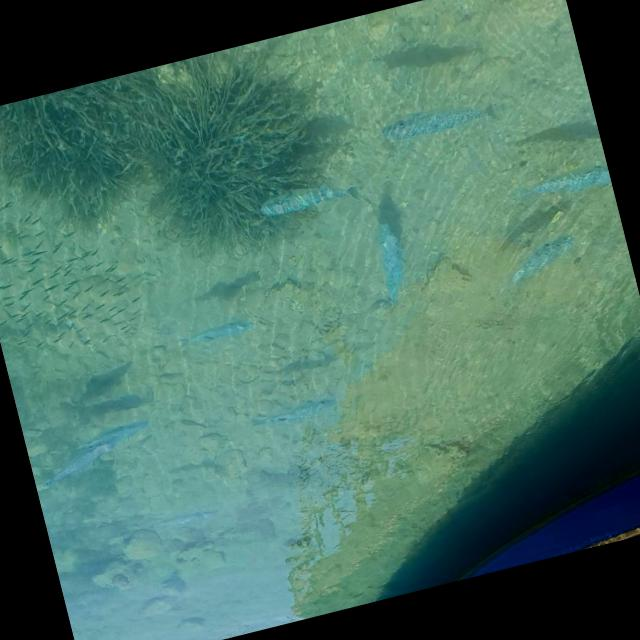Balon Baligi: (379, 92, 499, 147), (488, 234, 584, 298), (257, 172, 364, 223), (514, 164, 612, 206), (40, 438, 122, 486), (371, 221, 414, 305), (250, 395, 336, 431), (70, 415, 151, 452), (178, 317, 250, 348)
